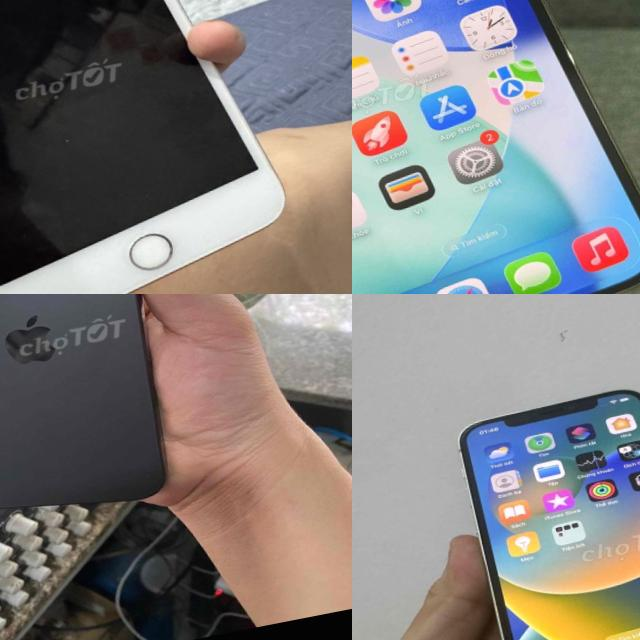gen_12_13: (352, 0, 640, 294), (447, 367, 640, 640)
gen_15: (0, 294, 192, 539)
gen_7_8: (0, 0, 312, 294)
